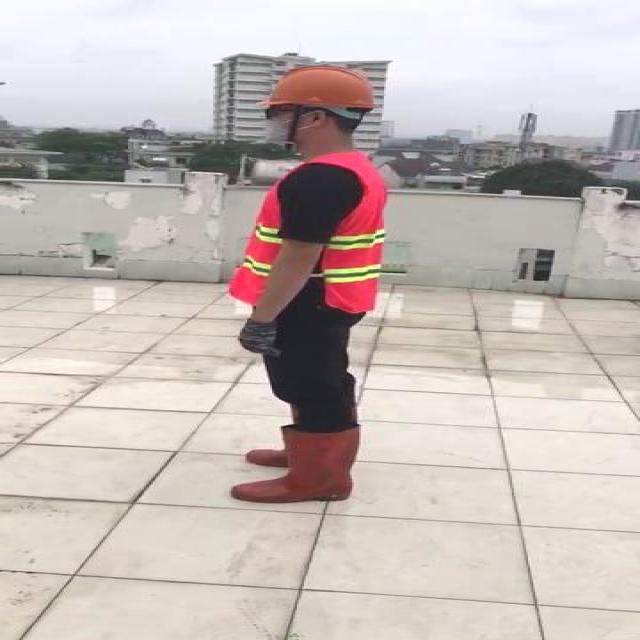boots: (230, 427, 364, 510)
face_mask: (259, 103, 312, 148)
hand_glove: (233, 319, 279, 358)
head_helmet: (266, 63, 378, 108)
person: (209, 62, 397, 509)
vest: (228, 149, 388, 312)
